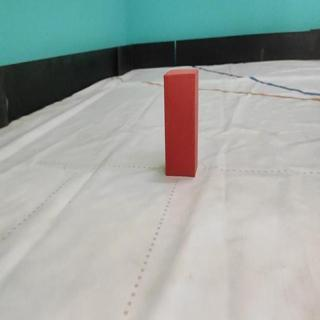redbox: (163, 69, 198, 177)
